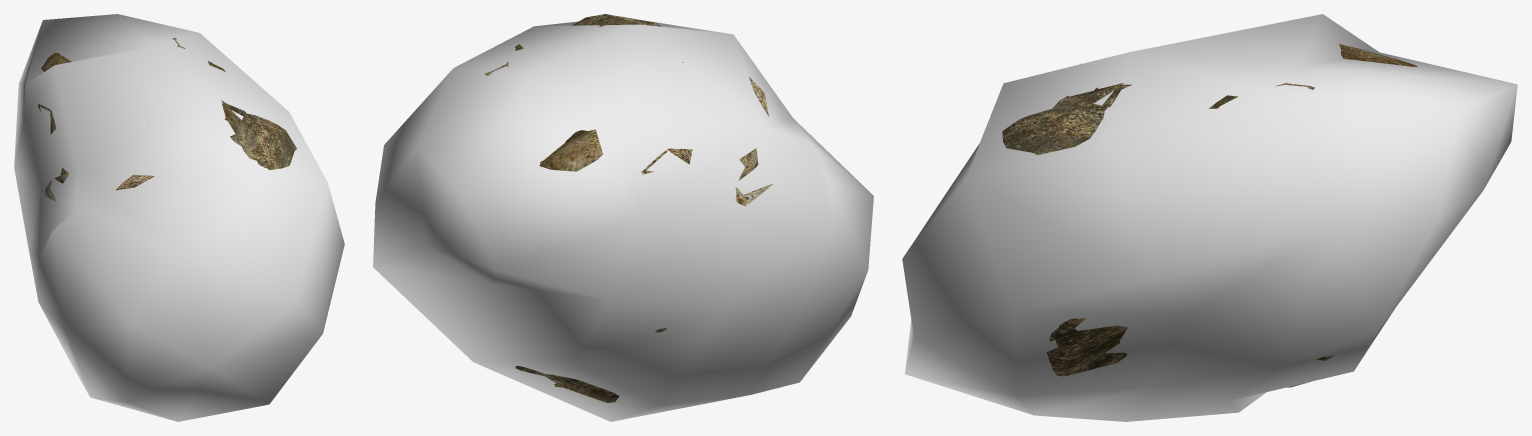
Rendered from Asteroid1LOD.fbx.
The picture shows the model from 3 angles, left to right: view 1: azimuth 30°, elevation 25°; view 2: azimuth 150°, elevation 25°; view 3: azimuth 270°, elevation 25°; orthographic projection. The views are drawn at different scales.
Visible parts, largest first — view 1: AsteroidCollMesh.001, Asteroid1_LOD0; view 2: AsteroidCollMesh.001, Asteroid1_LOD0; view 3: AsteroidCollMesh.001, Asteroid1_LOD0.
Part boxes in pixels (<box>): AsteroidCollMesh.001: <box>14,14,344,421</box>; Asteroid1_LOD0: <box>38,38,296,201</box>; AsteroidCollMesh.001: <box>373,21,873,421</box>; Asteroid1_LOD0: <box>485,14,772,402</box>; AsteroidCollMesh.001: <box>902,14,1517,421</box>; Asteroid1_LOD0: <box>1002,44,1417,387</box>.
Size of what is drawn, in the model's own units: 272 by 264 by 381.
